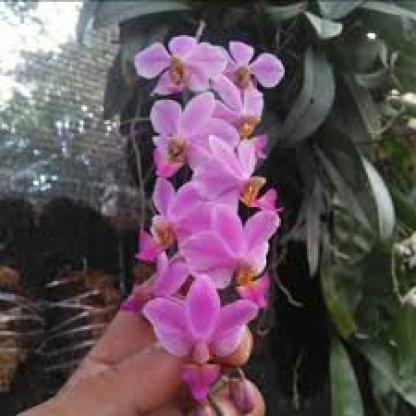ANGGREK: (110, 14, 328, 413)
